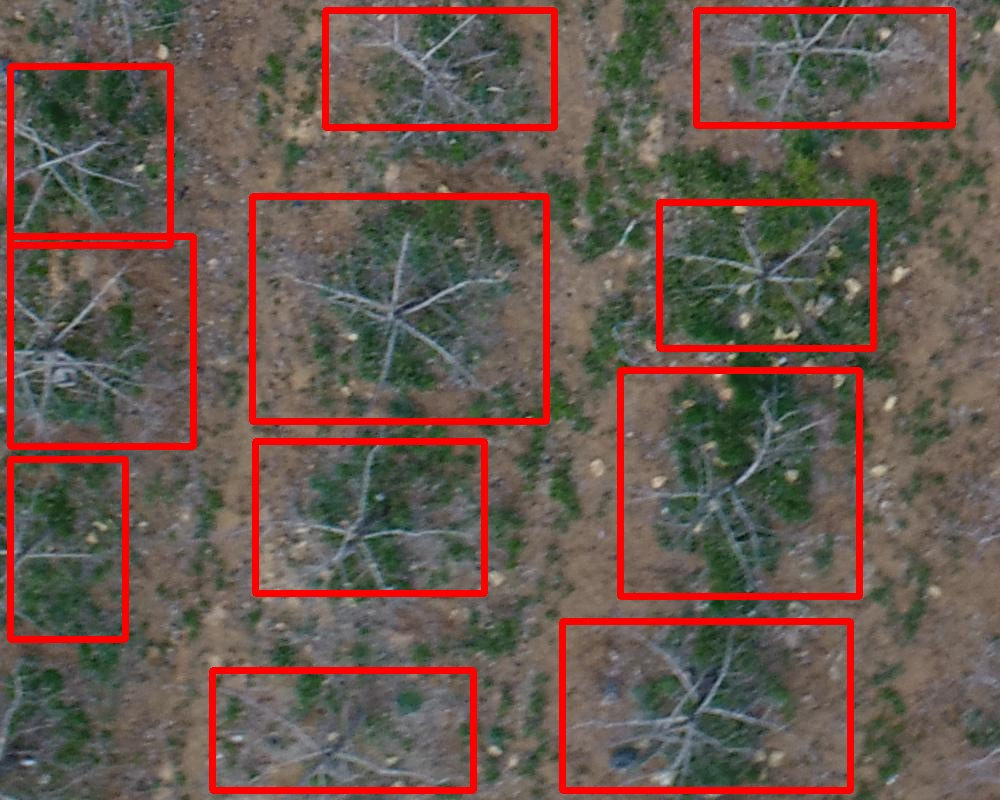apple: (252, 196, 546, 421), (620, 370, 859, 596), (562, 621, 850, 790), (10, 236, 193, 446), (255, 441, 484, 593), (212, 670, 473, 790), (659, 202, 873, 348), (696, 10, 952, 125), (10, 66, 170, 245), (325, 10, 554, 127), (10, 459, 125, 639)
